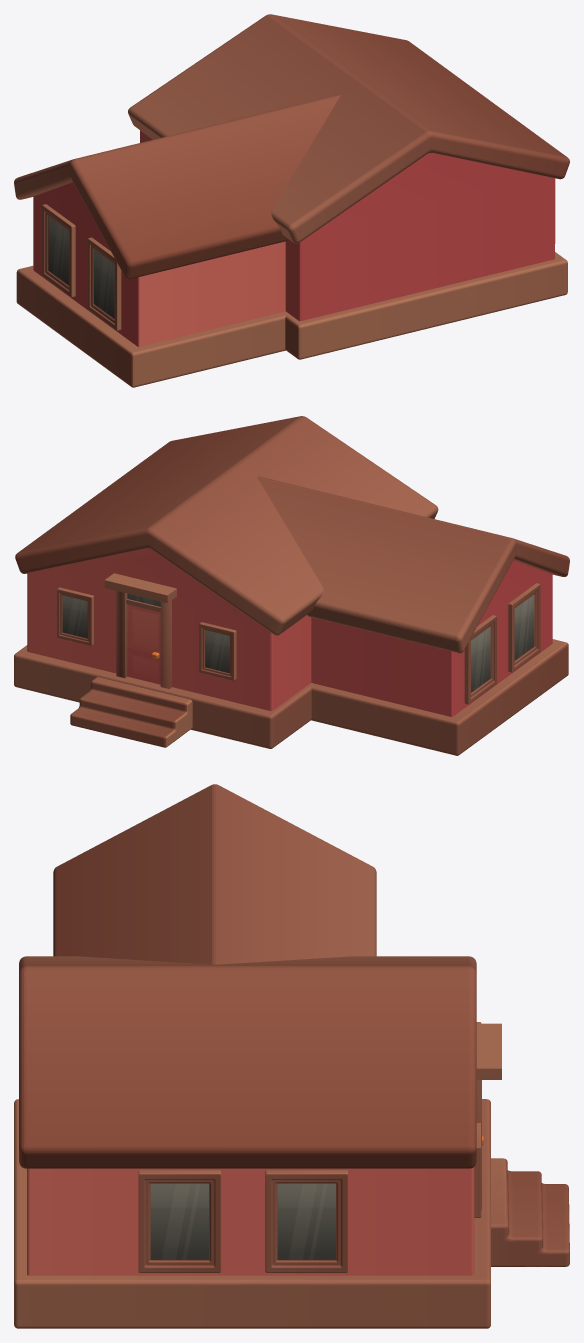
Rendered from CASA ROJA.fbx.
The picture shows the model from 3 angles, top to bottom: view 1: azimuth 30°, elevation 25°; view 2: azimuth 150°, elevation 25°; view 3: azimuth 270°, elevation 25°; orthographic projection. The views are drawn at different scales.
Parts seen in each view (by area): view 1: building_C_withoutBase.018; view 2: building_C_withoutBase.018; view 3: building_C_withoutBase.018.
Boxes of the visible parts, box(x1,y1,x2,y2) form: building_C_withoutBase.018: box(14, 14, 569, 387); building_C_withoutBase.018: box(14, 416, 569, 755); building_C_withoutBase.018: box(14, 784, 569, 1328).
Bounding box in the file's own units: 1642 × 1317 × 707.
2 materials, 2 textured.
